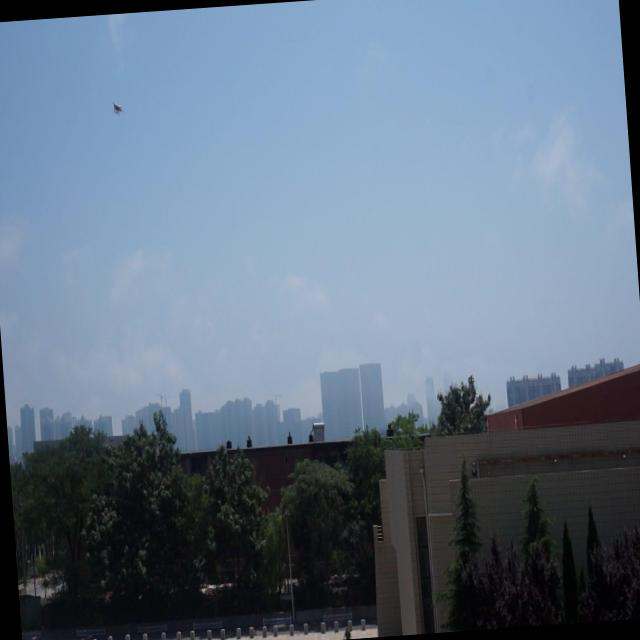drone: (111, 98, 124, 118)
